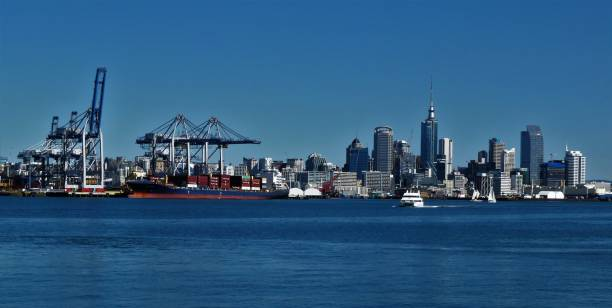ferry: (399, 189, 423, 208)
